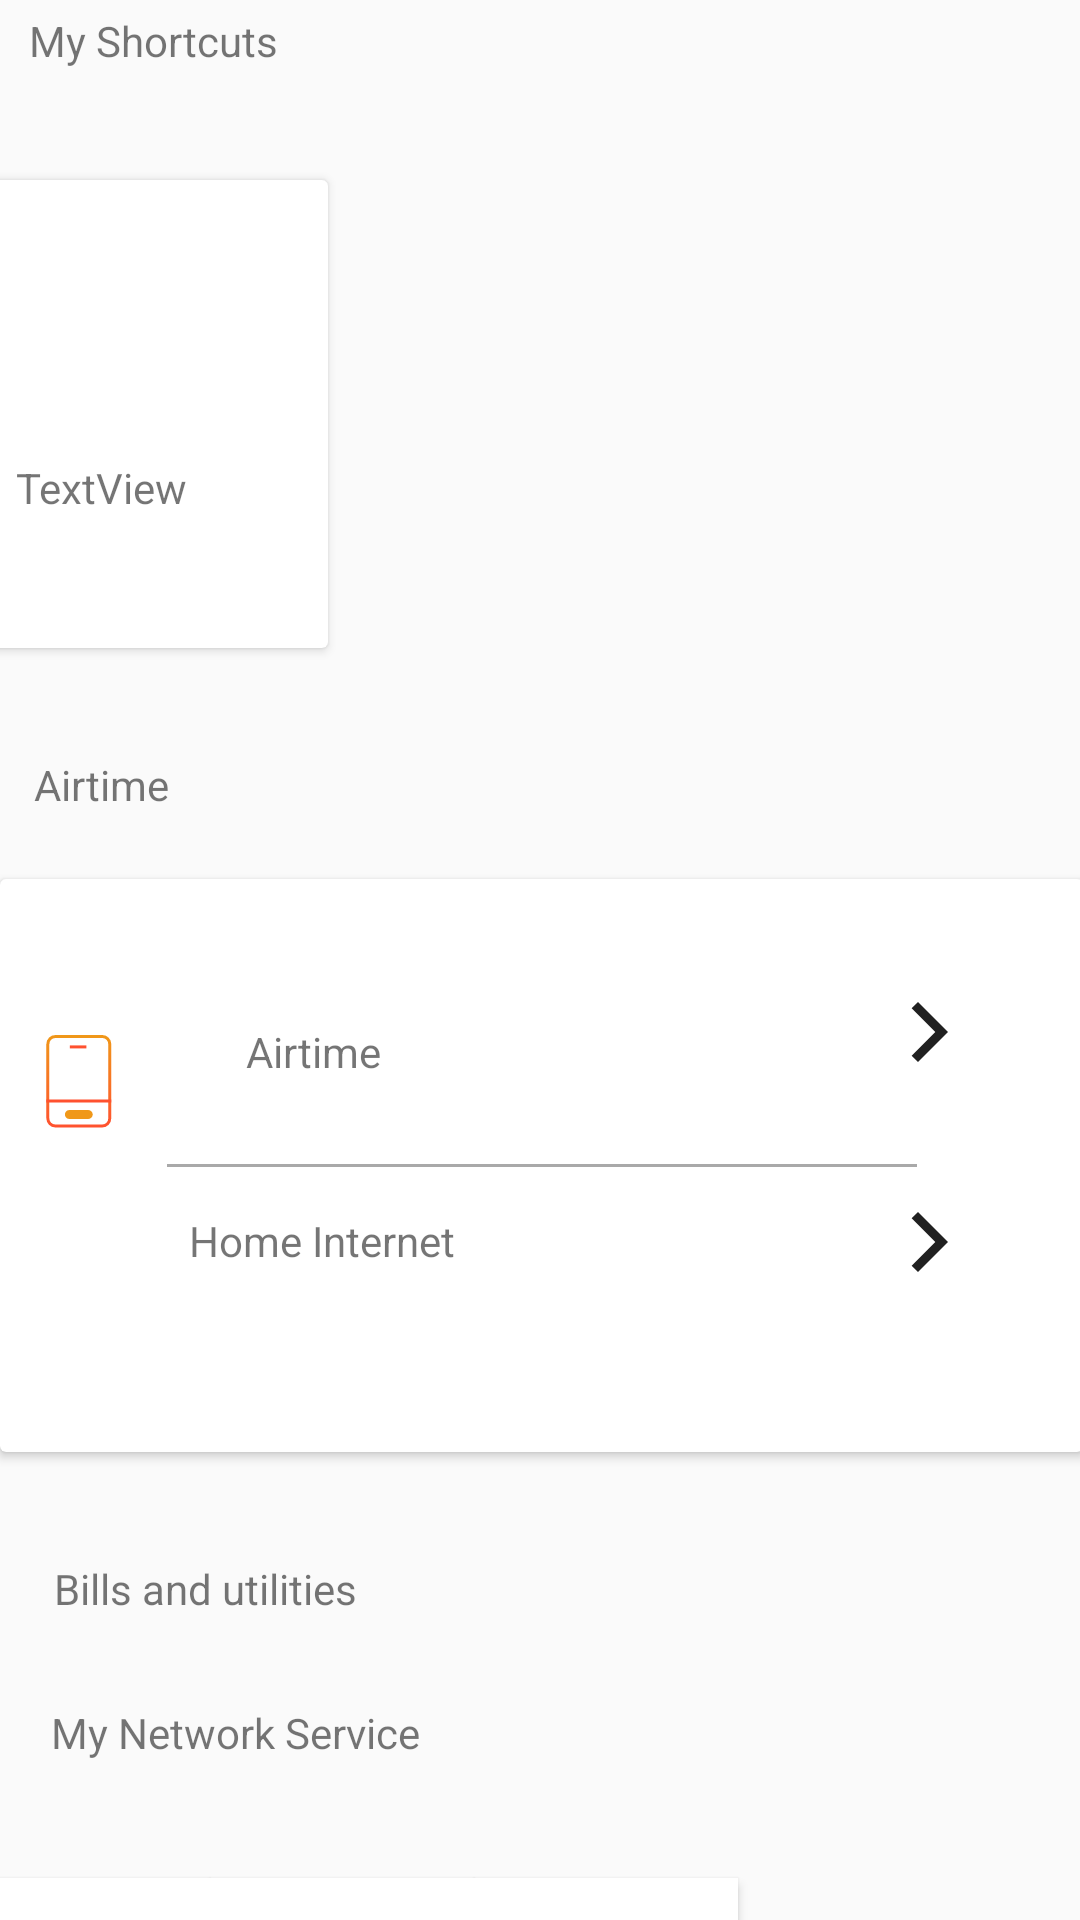

Where to tap for icons on this 1080*1920 app screen, as point (x, y):
arrow forward: point (929, 1032), point (929, 1242)
phone: point (79, 1081)
